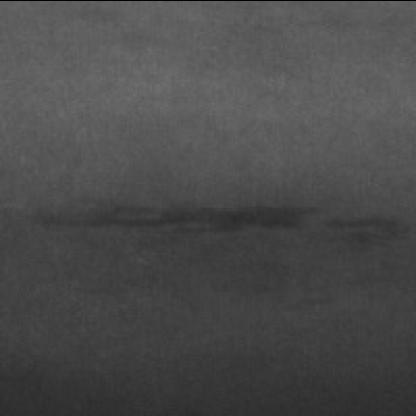inclusion: (0, 198, 326, 250), (300, 214, 410, 252)
